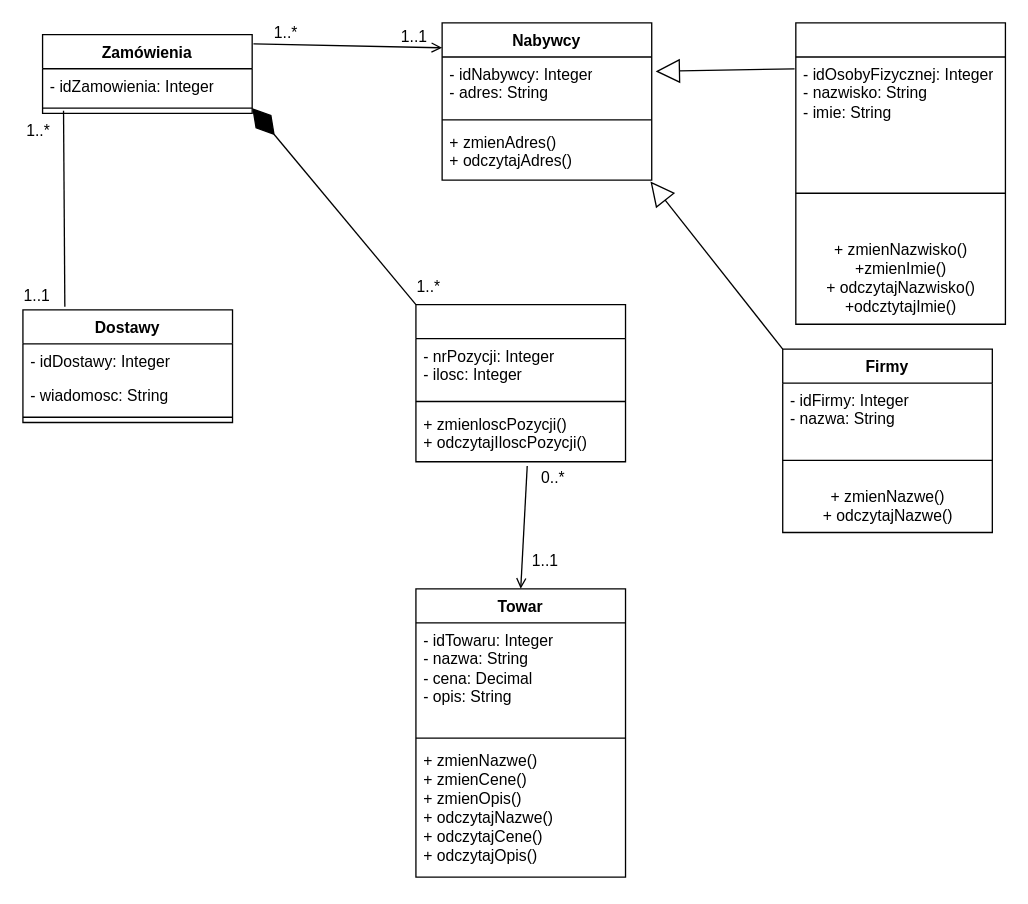
Some shapes in this 1028 by 904 pixel diagram are drawn without their labels. The shapes that lost their labels are listed below. From the top down, each one's box as (x1, y1, x2, y2) in pixels, then its label:
(795, 22, 1005, 324): OsobaFizyczna
(415, 303, 626, 462): Pozycje
